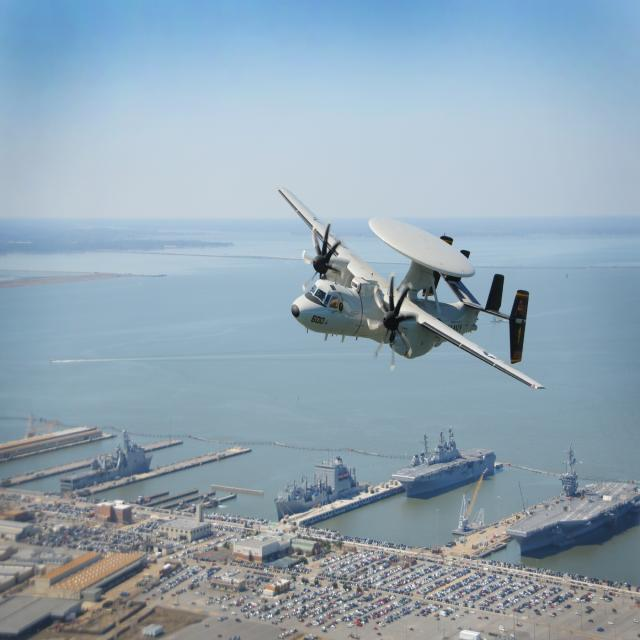MIL_Plane: (278, 187, 546, 389)
